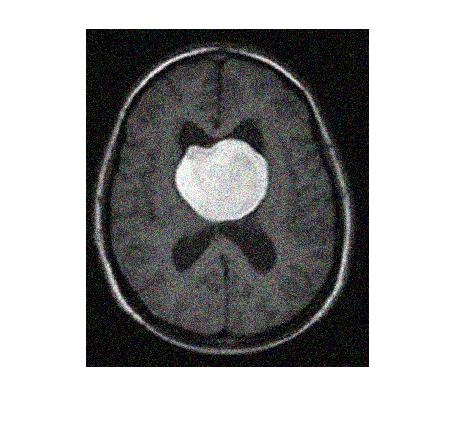Brain_Cancer: (174, 137, 270, 223)
